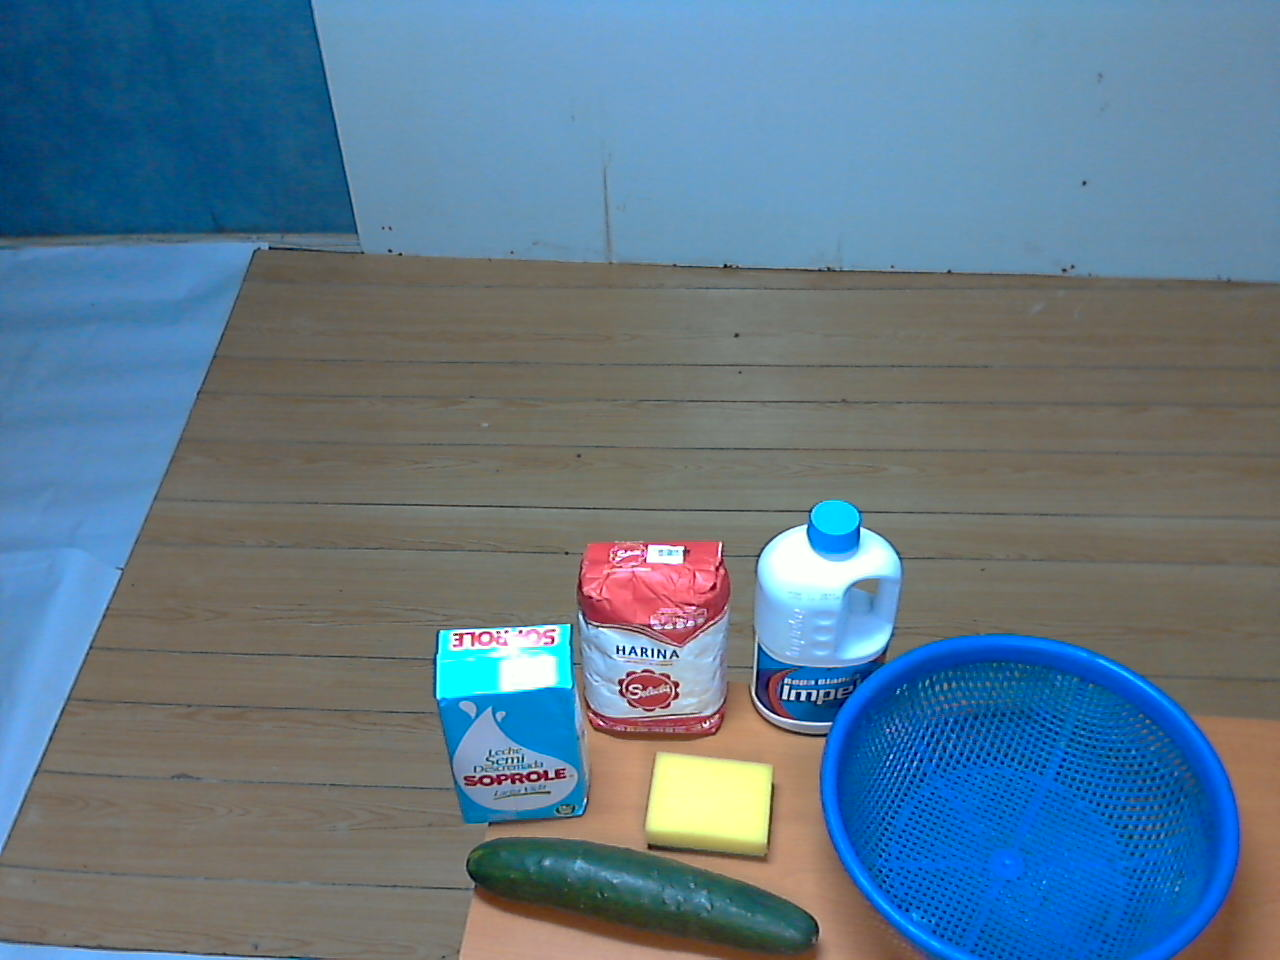cloro: (745, 501, 905, 751)
colador: (817, 635, 1244, 960)
esponja: (632, 742, 782, 870)
harina: (569, 534, 733, 748)
leche: (427, 614, 598, 841)
pepino: (454, 829, 833, 960)
